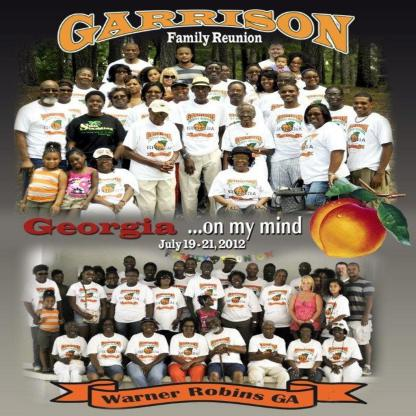face: (354, 99, 372, 115), (194, 85, 210, 101), (234, 155, 250, 171), (152, 111, 169, 126), (88, 98, 105, 113), (43, 87, 60, 102), (281, 89, 299, 103), (308, 111, 324, 126), (98, 155, 113, 171), (327, 92, 343, 106), (278, 78, 295, 91), (230, 88, 245, 102), (240, 109, 255, 123), (46, 156, 61, 170), (173, 86, 189, 99), (262, 76, 276, 90), (207, 66, 222, 79), (147, 88, 162, 101), (114, 94, 128, 107), (79, 73, 93, 86), (60, 88, 74, 101), (305, 75, 320, 87), (70, 157, 85, 169), (249, 69, 263, 81), (270, 46, 284, 58), (178, 51, 192, 63), (291, 59, 303, 72), (127, 82, 140, 94), (125, 47, 138, 59), (219, 68, 231, 80), (165, 74, 177, 86), (183, 323, 195, 335), (116, 69, 129, 80), (263, 325, 274, 337), (148, 73, 161, 83), (207, 320, 220, 330), (348, 267, 359, 278), (334, 327, 345, 338), (67, 325, 79, 335), (84, 272, 96, 282), (144, 324, 155, 334), (105, 322, 115, 333), (301, 329, 312, 339), (145, 268, 156, 278), (276, 274, 288, 283), (232, 277, 244, 286), (127, 274, 139, 283), (337, 266, 347, 276), (330, 284, 340, 294), (300, 266, 310, 276), (203, 265, 213, 275), (176, 266, 186, 276), (187, 261, 196, 272), (125, 260, 136, 269), (108, 276, 119, 285), (37, 272, 48, 281), (277, 59, 287, 68), (303, 281, 312, 291), (266, 268, 275, 278), (248, 267, 258, 276), (227, 261, 237, 270), (162, 276, 171, 285), (56, 275, 65, 284), (46, 299, 56, 307), (96, 273, 104, 282), (207, 299, 214, 307), (315, 278, 321, 286)
